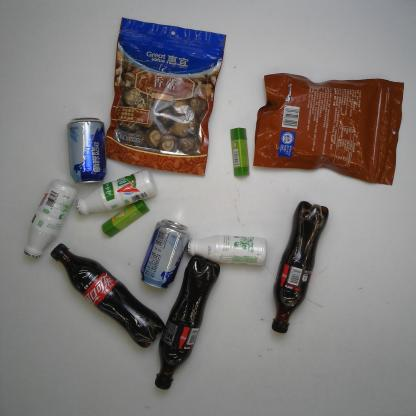Alcohol: (137, 214, 192, 292), (63, 114, 113, 186)
Dried Food: (101, 14, 228, 181), (251, 70, 408, 188)
Drink: (46, 240, 168, 350), (153, 251, 223, 400), (268, 199, 332, 340)
Milk: (20, 177, 84, 265), (72, 168, 158, 222), (183, 233, 272, 273)
Stationery: (100, 199, 152, 239), (228, 124, 254, 180)
